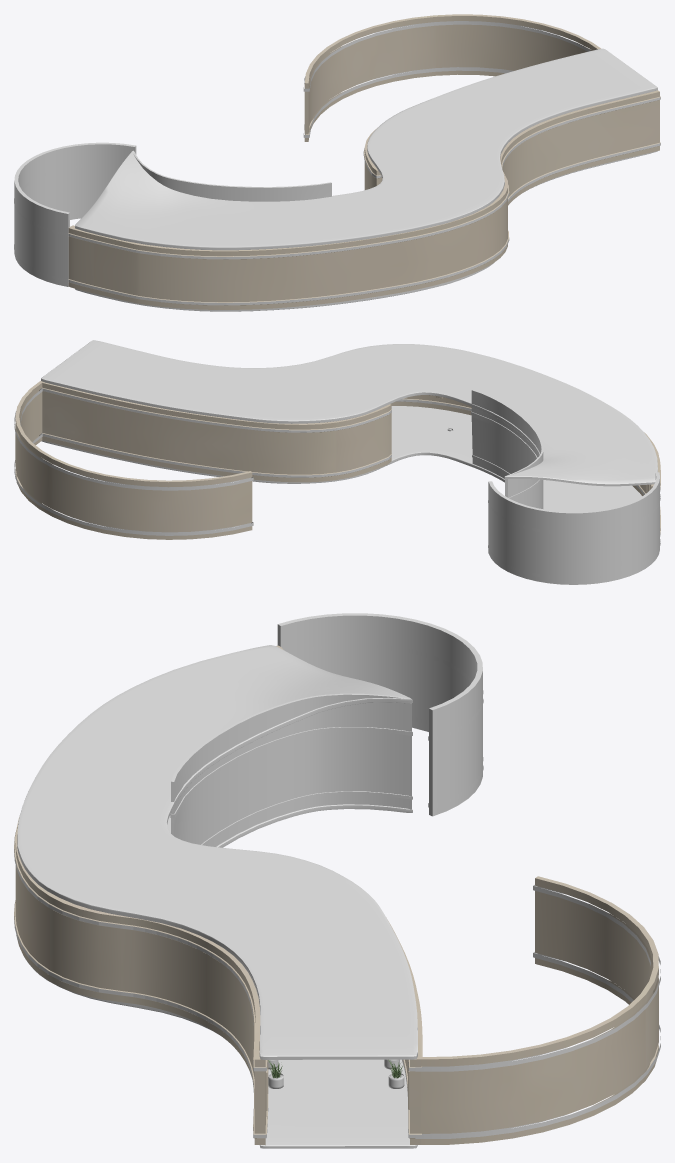
The model's file is Corridor.fbx.
The picture shows the model from 3 angles, top to bottom: view 1: azimuth 30°, elevation 25°; view 2: azimuth 150°, elevation 25°; view 3: azimuth 270°, elevation 25°; orthographic projection. The views are drawn at different scales.
Visible parts, largest first — view 1: Plane.048, BezierCurve.007, Wall.003, Wall, BezierCurve.001, Plane.014, Wall.002, Plane.012, Wall.001, Wall.right.001; view 2: Plane.048, Wall.right.001, Wall.003, Wall, Plane.012, Plane.014, Wall.002, Wall.right.002, Wall.001, BezierCurve.007, Plane.013; view 3: Plane.048, Wall.003, Plane.014, BezierCurve.007, Wall, Plane.012, Wall.002, BezierCurve.001, Plane.013, Wall.right.001, Wall.001.
Part boxes in pixels (x1,y1,x2,y2): Plane.048: [75, 48, 657, 250]; BezierCurve.007: [68, 90, 660, 309]; Wall.003: [304, 14, 600, 141]; Wall: [14, 142, 136, 286]; BezierCurve.001: [68, 97, 660, 305]; Plane.014: [133, 153, 331, 201]; Wall.002: [303, 21, 590, 137]; Plane.012: [75, 151, 657, 311]; Wall.001: [14, 163, 120, 281]; Wall.right.001: [363, 127, 382, 189]; Plane.048: [41, 340, 657, 486]; Wall.right.001: [39, 382, 391, 482]; Wall.003: [15, 381, 252, 539]; Wall: [488, 472, 659, 584]; Plane.012: [41, 406, 642, 511]; Plane.014: [471, 389, 543, 508]; Wall.002: [14, 388, 253, 535]; Wall.right.002: [40, 388, 391, 477]; Wall.001: [488, 494, 660, 579]; BezierCurve.007: [390, 395, 660, 533]; Plane.013: [471, 411, 541, 499]; Plane.048: [17, 645, 417, 1059]; Wall.003: [416, 876, 658, 1144]; Plane.014: [171, 693, 411, 846]; BezierCurve.007: [14, 645, 283, 1145]; Wall: [277, 613, 482, 816]; Plane.012: [24, 804, 417, 1148]; Wall.002: [415, 885, 660, 1138]; BezierCurve.001: [14, 849, 268, 1138]; Plane.013: [170, 727, 412, 845]; Wall.right.001: [386, 917, 422, 1144]; Wall.001: [288, 643, 483, 809].
Size of the model in its own units: 2723 by 341 by 1746.
